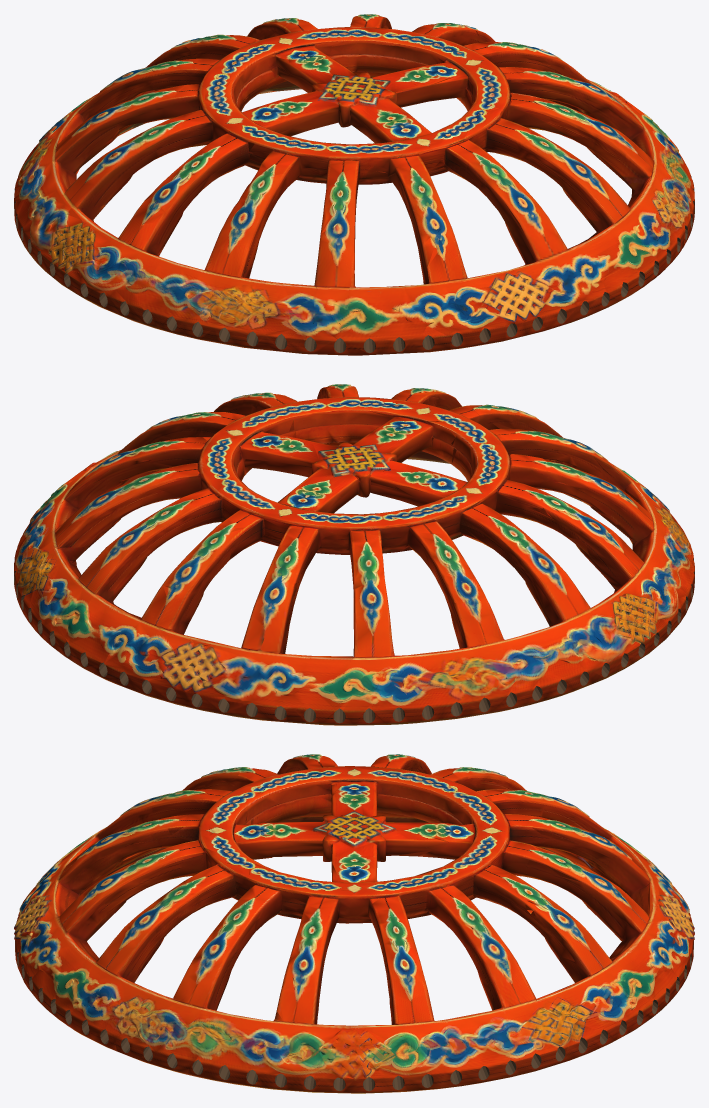
File: toono.glb
The picture shows the model from 3 angles, top to bottom: view 1: azimuth 30°, elevation 25°; view 2: azimuth 150°, elevation 25°; view 3: azimuth 270°, elevation 25°; orthographic projection.
Parts seen in each view (by area): view 1: Toono; view 2: Toono; view 3: Toono.
Part boxes in pixels (x1,y1,x2,y2): Toono: (14, 14, 694, 355); Toono: (14, 384, 694, 725); Toono: (14, 754, 694, 1093).
Size of the model in its own units: 2.06 by 0.419 by 2.06.
Materials: 2 (1 with a texture image).
